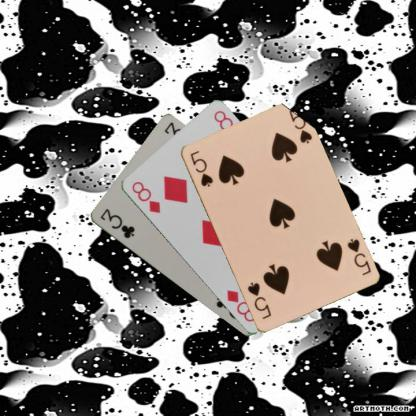3c: (97, 206, 136, 240)
5s: (344, 236, 372, 276), (188, 148, 214, 188)
8d: (129, 178, 161, 215)
